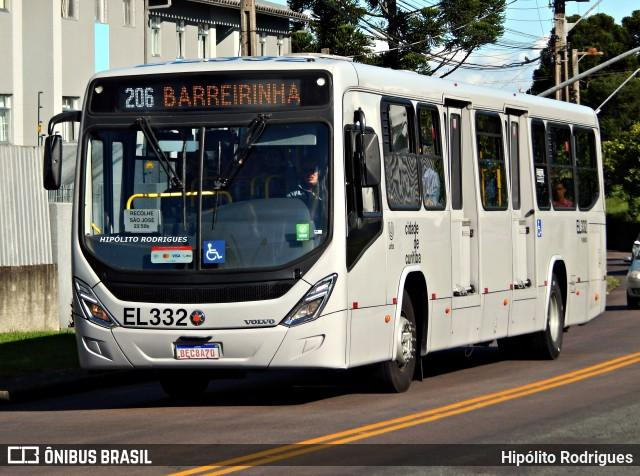BARREIRINHA: (158, 78, 303, 111)
